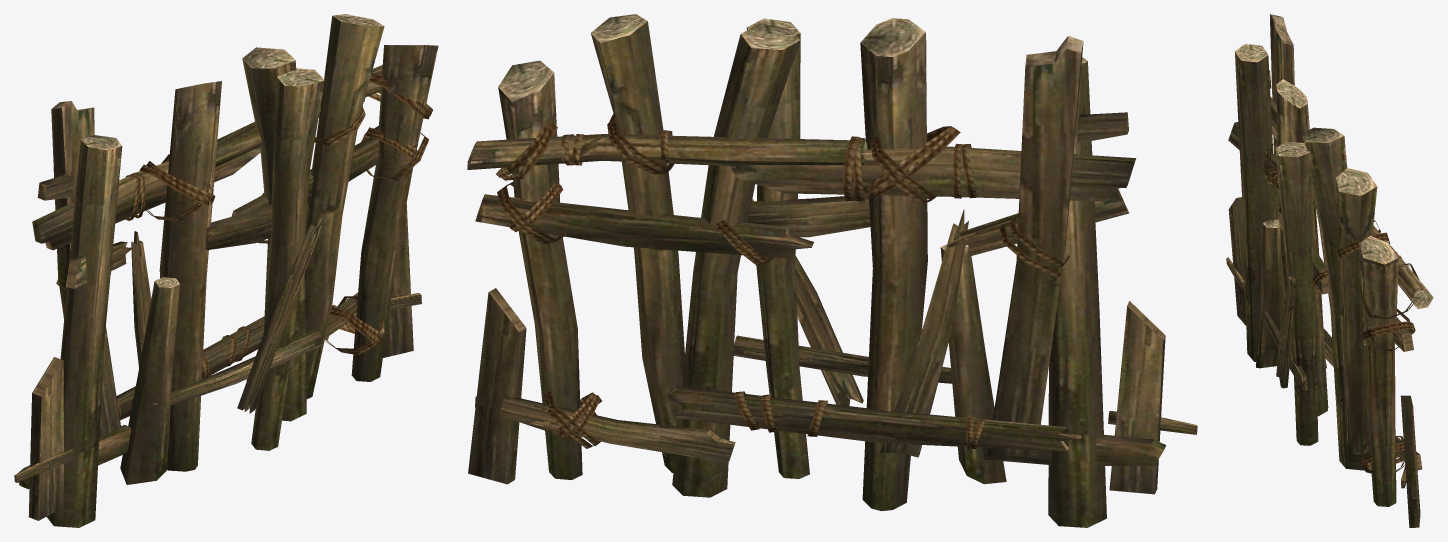
The model's file is forest_04_wood.FBX.
3 views of the same model, side by side, from view 1: azimuth 30°, elevation 25°; view 2: azimuth 150°, elevation 25°; view 3: azimuth 270°, elevation 25° (orthographic). The views are drawn at different scales.
Parts seen in each view (by area): view 1: wood; view 2: wood; view 3: wood.
Part boxes in pixels (left/top/right/bottom): wood: left=14, top=14, right=438, bottom=527; wood: left=467, top=14, right=1197, bottom=527; wood: left=1226, top=14, right=1433, bottom=527.
Bounding box in the file's own units: 8.52 × 6.59 × 3.63.
1 material, 1 textured.
